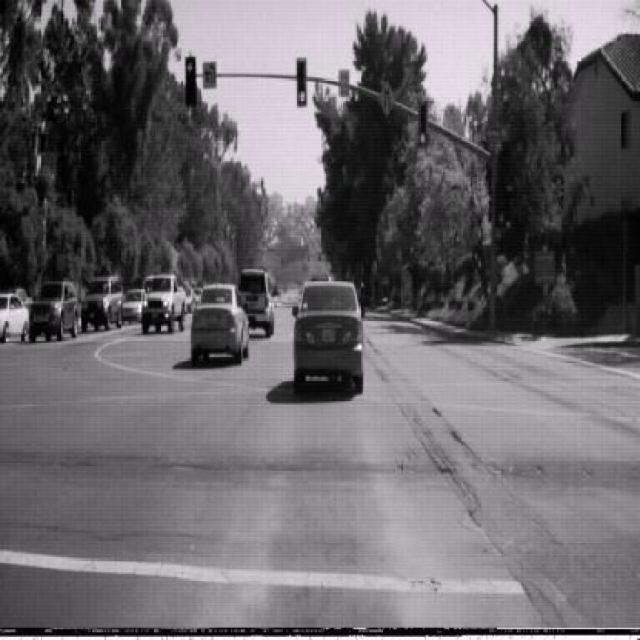laneEnds: (377, 77, 397, 119)
